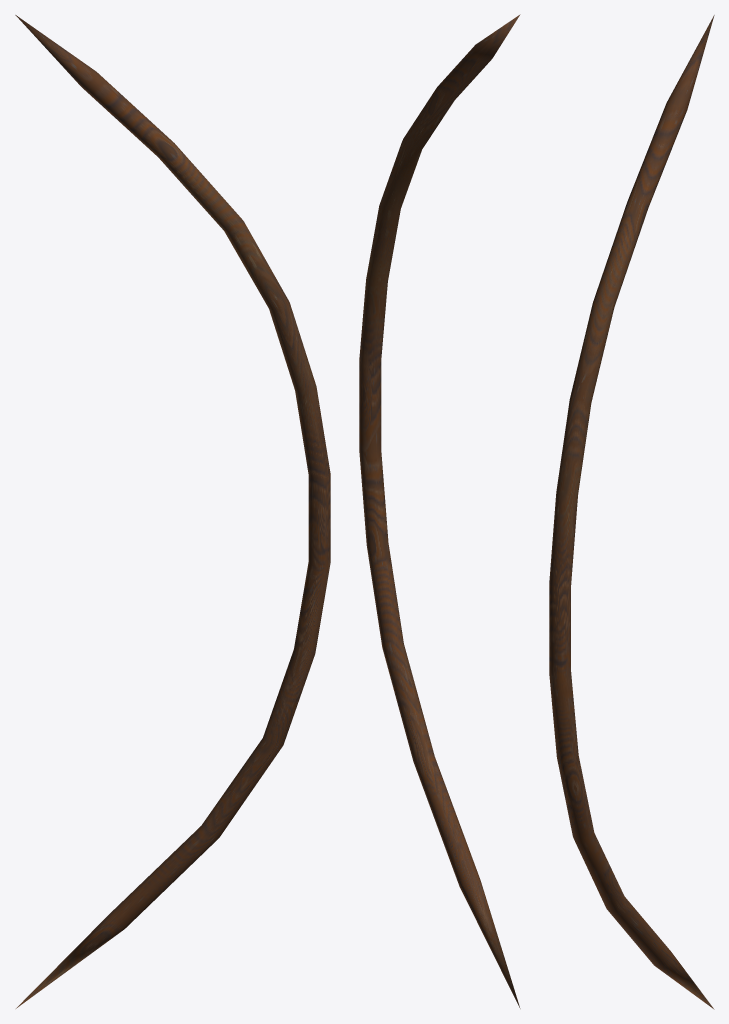
The model's file is bow.fbx.
The picture shows the model from 3 angles, left to right: view 1: azimuth 30°, elevation 25°; view 2: azimuth 150°, elevation 25°; view 3: azimuth 270°, elevation 25°; orthographic projection.
Parts seen in each view (by area): view 1: Bow.001; view 2: Bow.001; view 3: Bow.001.
Part boxes in pixels (left/top/right/bottom): Bow.001: left=15, top=15, right=330, bottom=1008; Bow.001: left=359, top=14, right=520, bottom=1008; Bow.001: left=549, top=15, right=714, bottom=1009.
Size of the model in its own units: 36.15 by 145 by 21.84.
